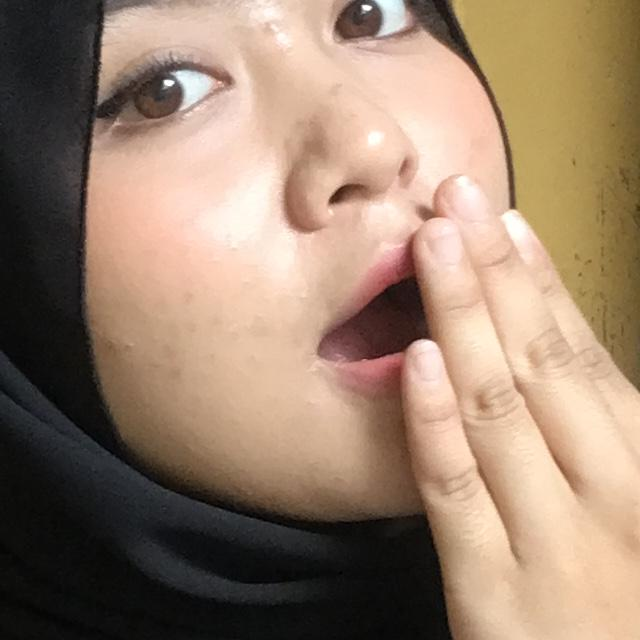ngantuk: (280, 156, 640, 640)
